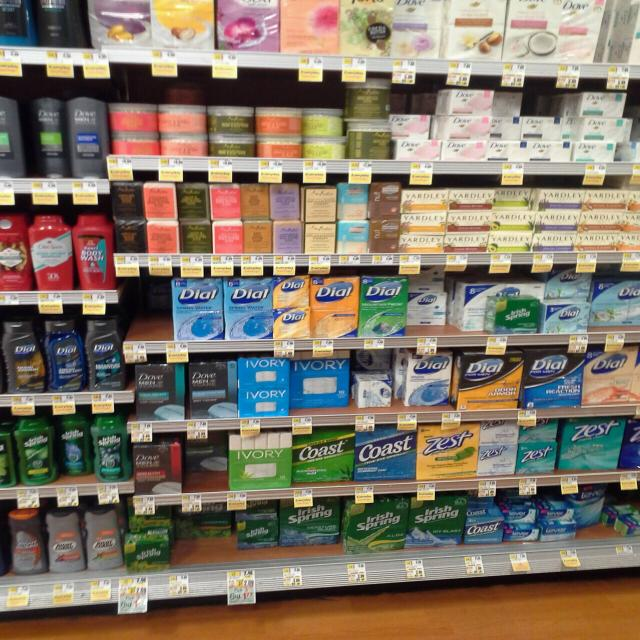void: (131, 277, 168, 360)
